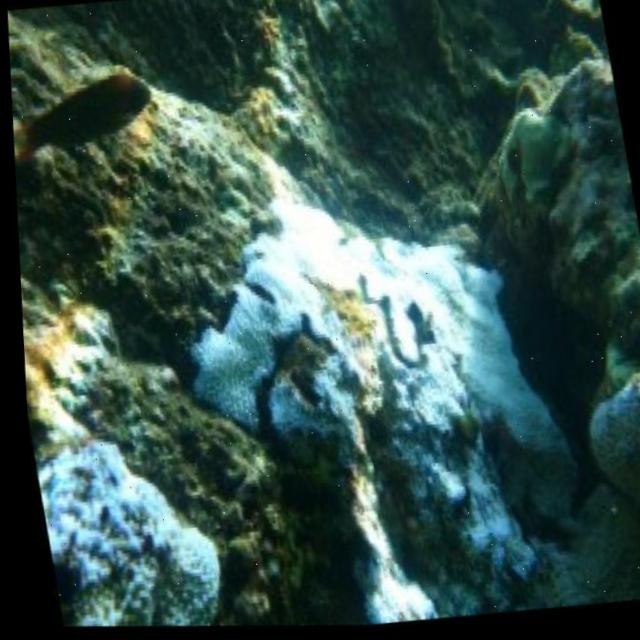Bleached Coral: (181, 220, 561, 534), (22, 415, 214, 632)
